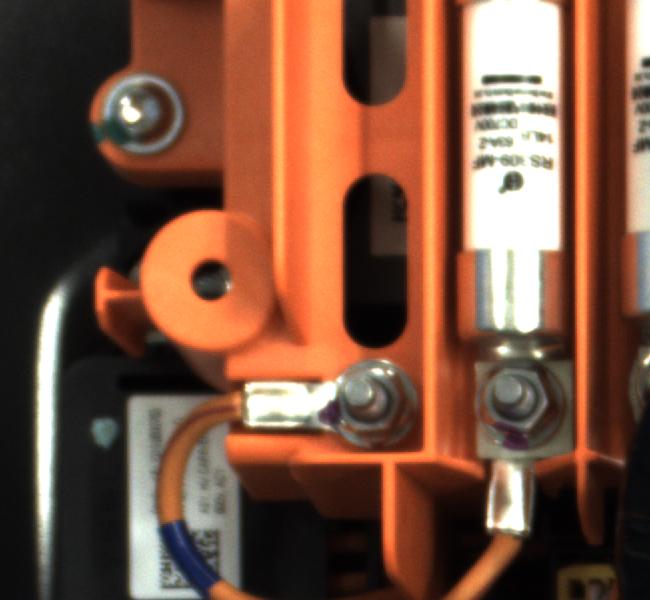screw_m: (85, 61, 199, 165)
screw_s: (319, 337, 432, 462), (469, 354, 586, 455)
